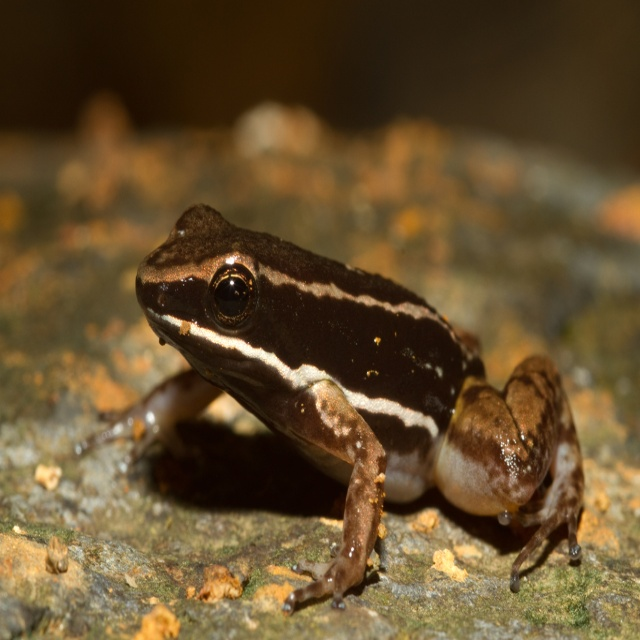Frog: (77, 203, 585, 618)
